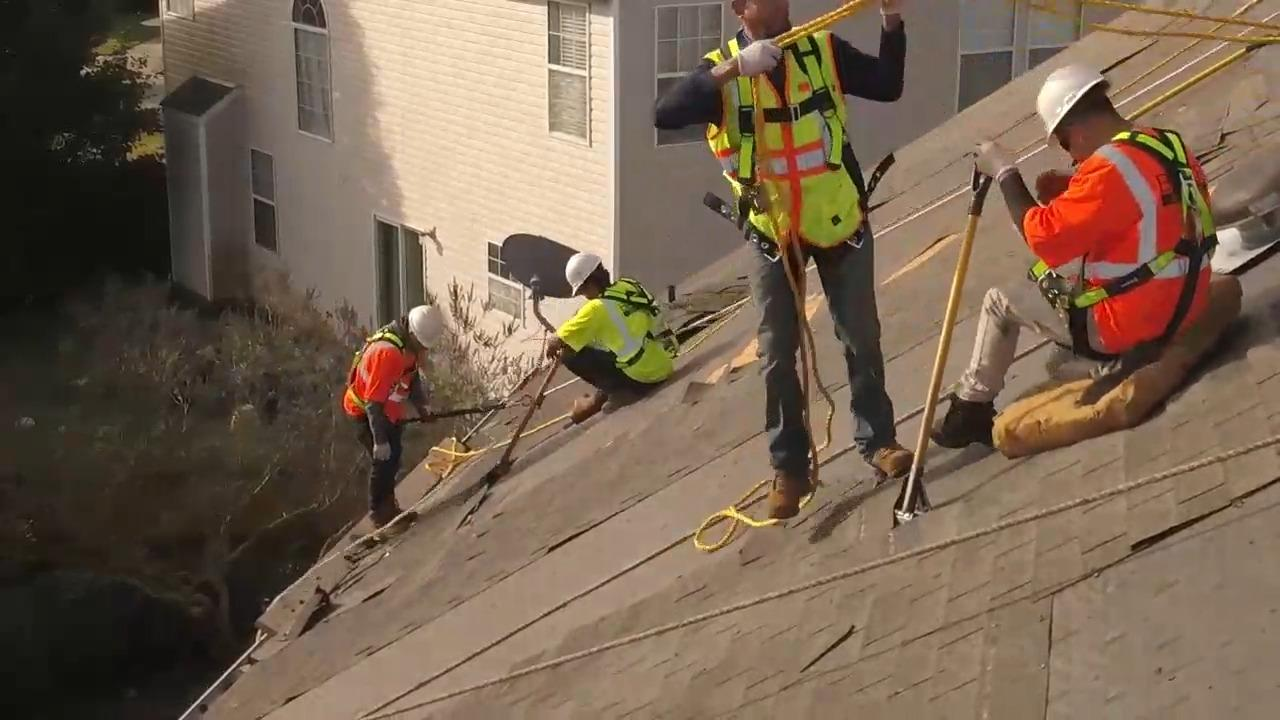Gloves: (737, 40, 785, 84), (977, 136, 1016, 183), (373, 436, 392, 465)
Helmet: (1030, 68, 1102, 129), (408, 306, 443, 344), (564, 254, 600, 286)
Person: (649, 0, 924, 504), (937, 56, 1210, 501), (520, 243, 675, 455), (334, 276, 455, 544)
Safety Boot: (930, 393, 997, 449), (766, 469, 810, 521), (859, 440, 916, 478), (375, 517, 415, 538), (603, 386, 637, 410)
Safety Vest: (734, 40, 848, 231), (1086, 154, 1197, 347), (592, 295, 663, 371), (364, 331, 412, 416)
